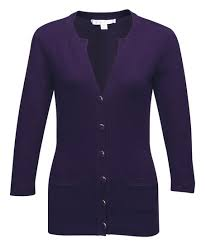C_cardigan sweater: (13, 16, 199, 236)
